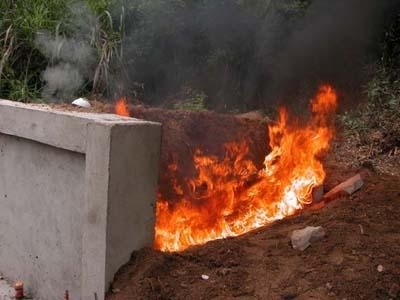fire: (152, 68, 342, 254)
